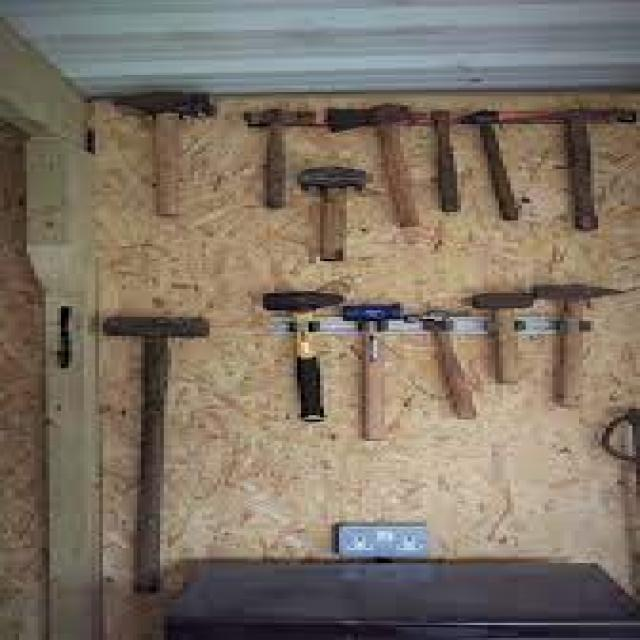hammer: (91, 310, 221, 600), (110, 87, 221, 226), (245, 278, 338, 430), (538, 275, 632, 410), (338, 296, 406, 448), (236, 106, 328, 213), (293, 160, 377, 264), (466, 284, 540, 398)
